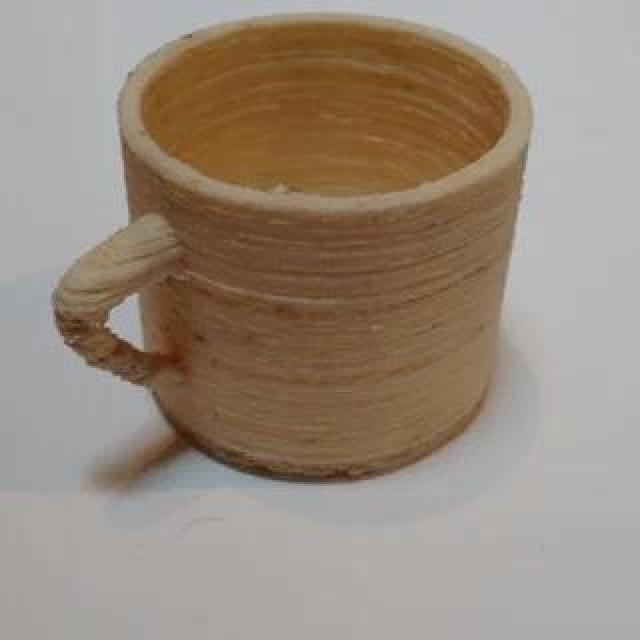spaghetti: (40, 299, 172, 403)
